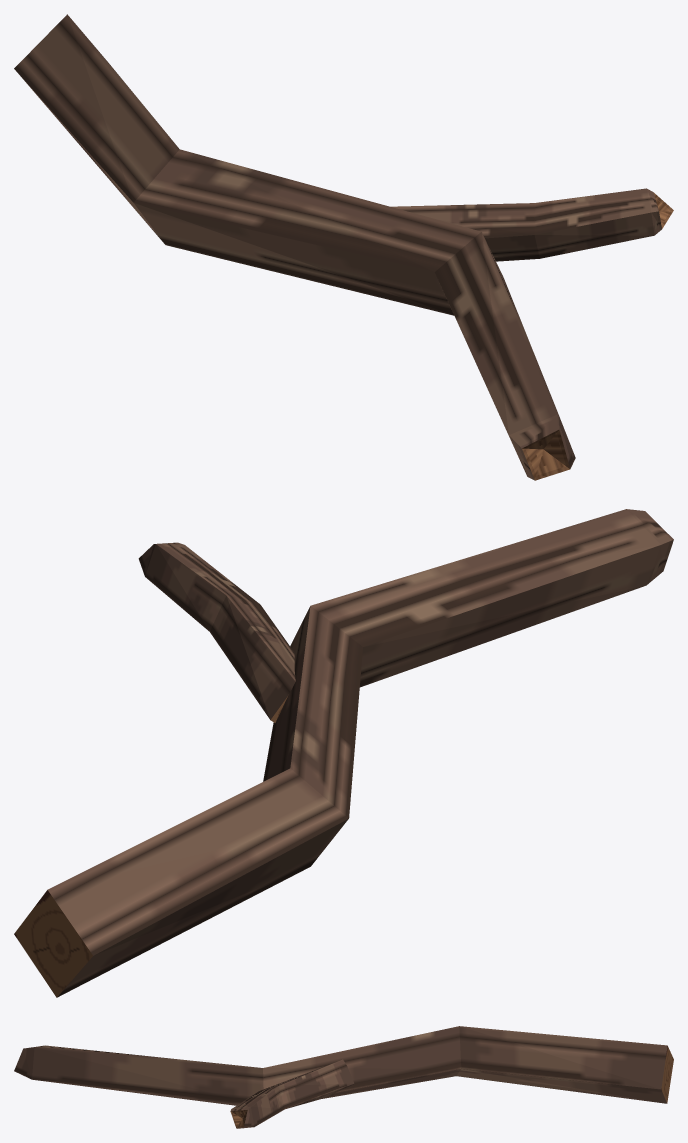
Rendered from SM_DW11_BranchForked.fbx.
3 views of the same model, one above another, from view 1: azimuth 30°, elevation 25°; view 2: azimuth 150°, elevation 25°; view 3: azimuth 270°, elevation 25° (orthographic). The views are drawn at different scales.
Parts seen in each view (by area): view 1: DW11_Wood; view 2: DW11_Wood; view 3: DW11_Wood.
Boxes of the visible parts, bbox=[...] form: DW11_Wood: bbox=[14, 14, 673, 480]; DW11_Wood: bbox=[14, 509, 673, 997]; DW11_Wood: bbox=[14, 1026, 673, 1128].
Bounding box in the file's own units: 0.535 × 0.1611 × 1.35.
